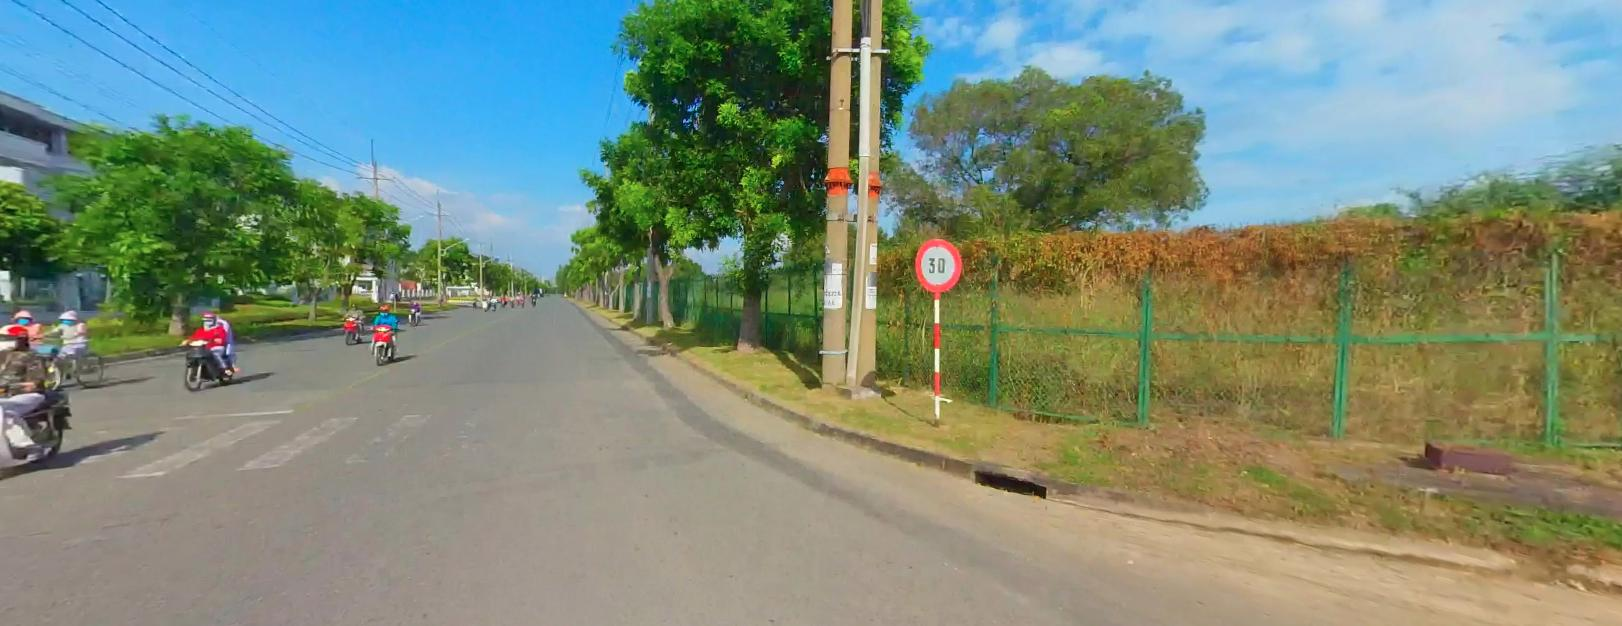Cam re: (914, 233, 964, 291)
